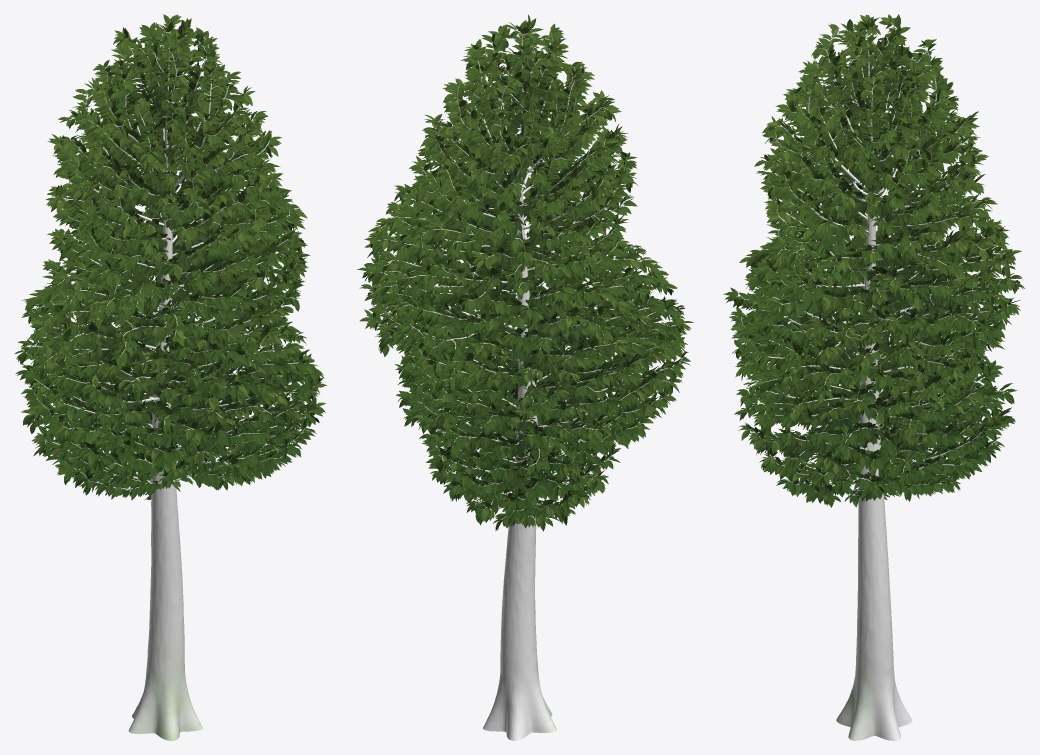
Rendered from SM_RealisticTree1.fbx.
The picture shows the model from 3 angles, left to right: view 1: azimuth 30°, elevation 25°; view 2: azimuth 150°, elevation 25°; view 3: azimuth 270°, elevation 25°; orthographic projection.
Visible parts, largest first — view 1: SM_RealisticTree1; view 2: SM_RealisticTree1; view 3: SM_RealisticTree1.
Part boxes in pixels (x1,y1,x2,y2): SM_RealisticTree1: (14, 14, 326, 740); SM_RealisticTree1: (357, 14, 693, 740); SM_RealisticTree1: (723, 14, 1024, 740).
Size of what is drawn, in the model's own units: 3.44 by 8.17 by 3.15.
